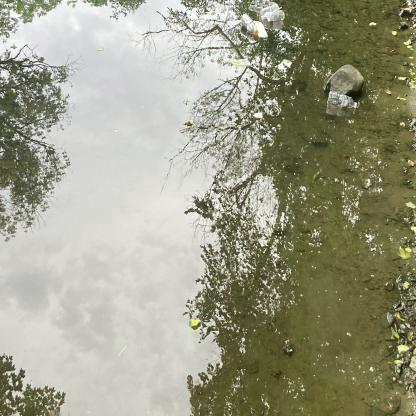Plastic: (240, 8, 268, 40), (326, 89, 358, 113), (250, 0, 282, 20)
